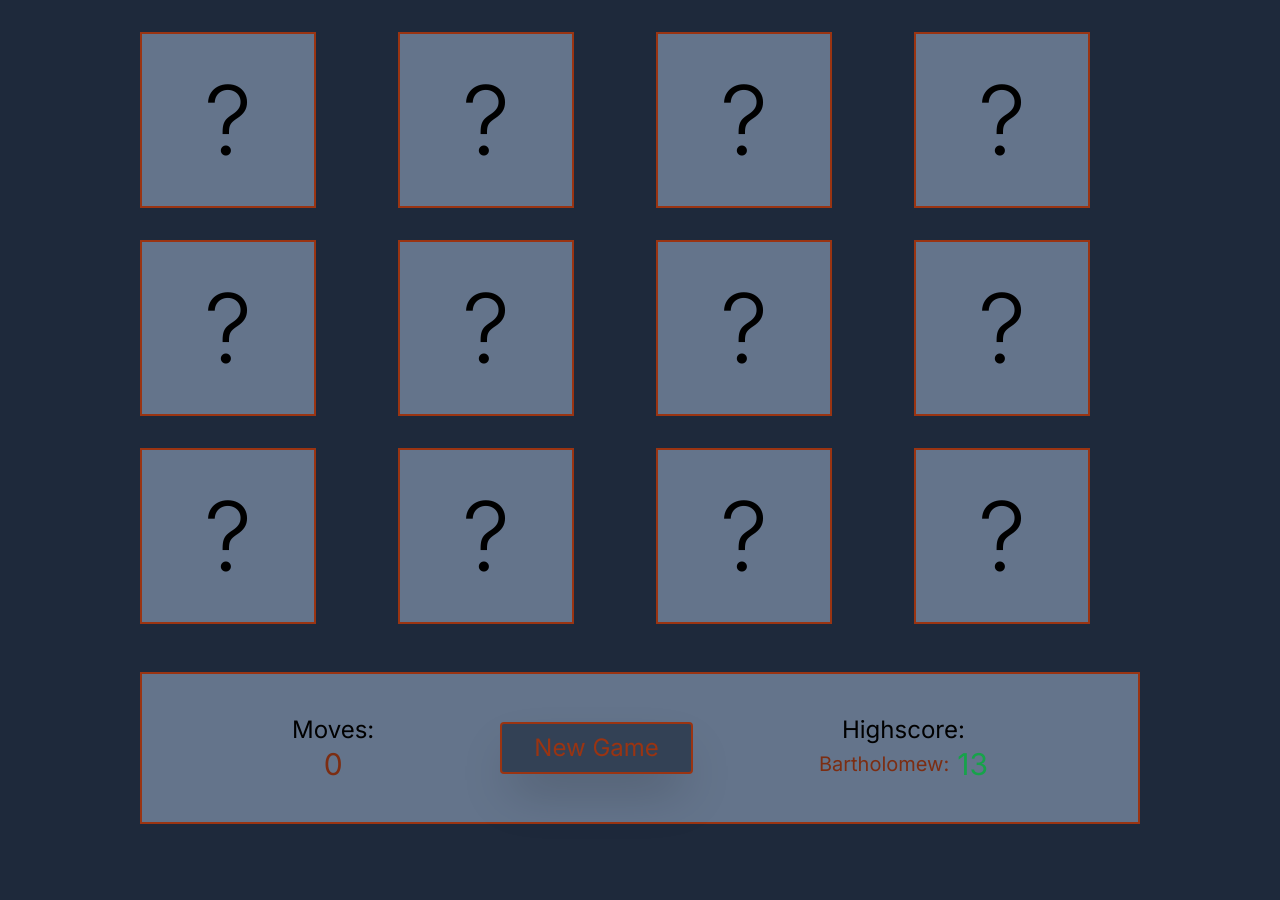
Test: Make sure card are acting as expected › Check that the cards render an image when clicked
Click the button with test id "card" at [228, 120], box [140,32,316,208]
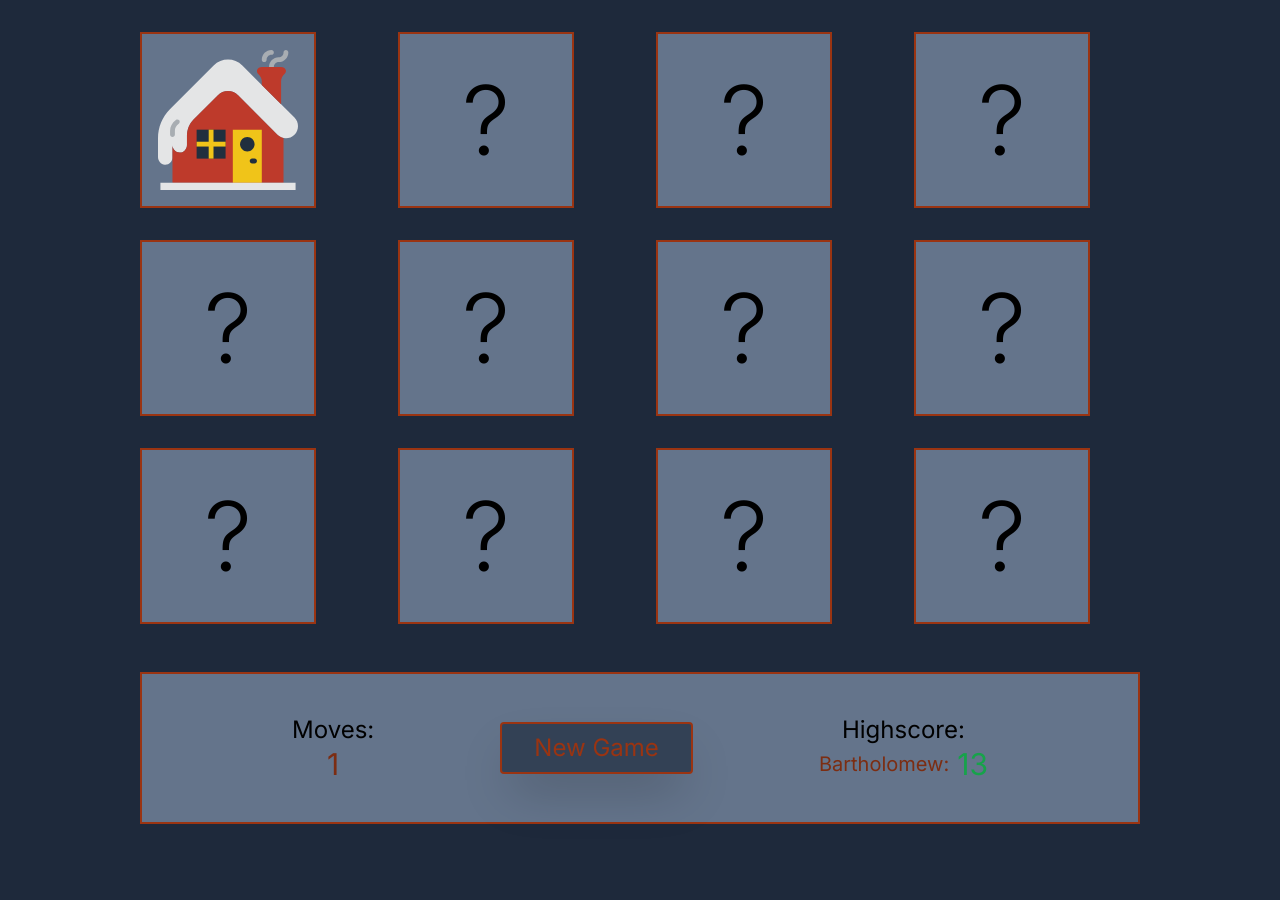
Now the picture with test id "card-image" is shown, box [158,50,298,190]
